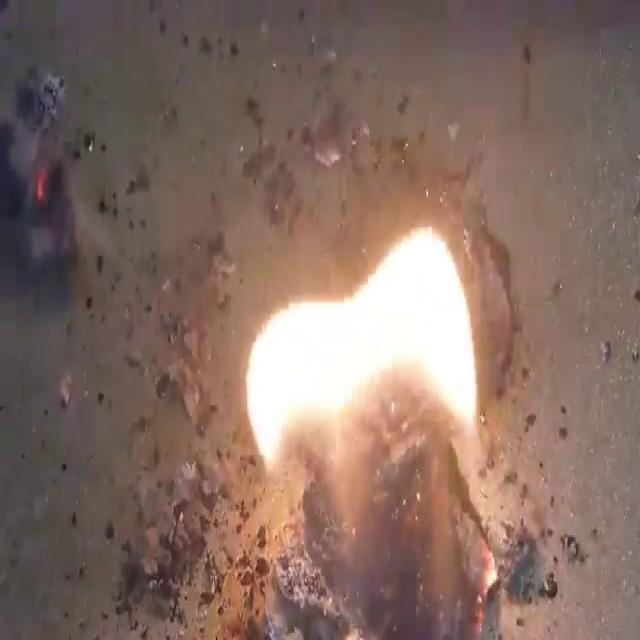Fire: (4, 6, 636, 636), (242, 220, 481, 477)
